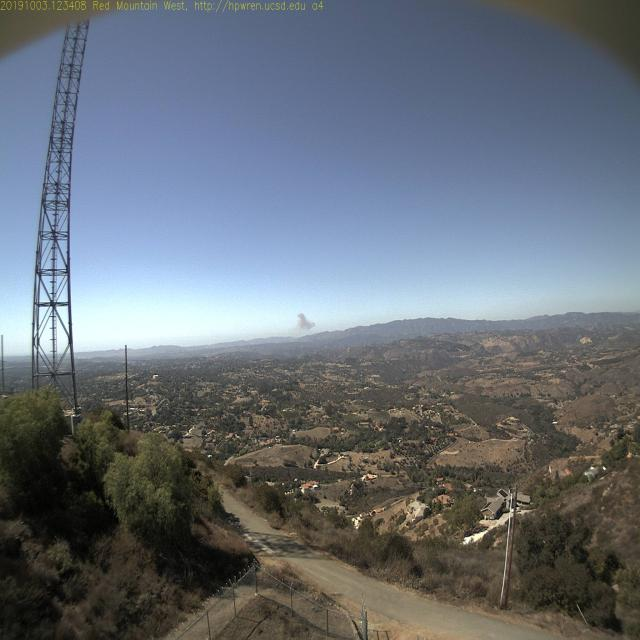smoke: (280, 304, 317, 342), (282, 306, 318, 344)
